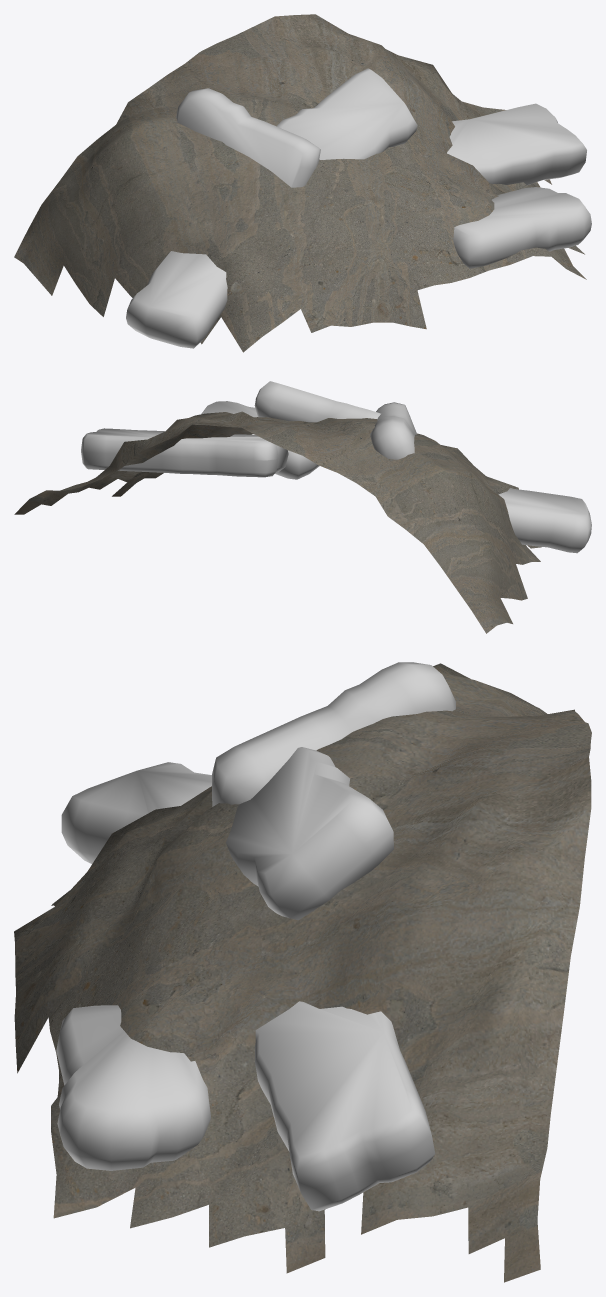
The model's file is SD2_Heap_3.fbx.
The picture shows the model from 3 angles, top to bottom: view 1: azimuth 30°, elevation 25°; view 2: azimuth 150°, elevation 25°; view 3: azimuth 270°, elevation 25°; orthographic projection. The views are drawn at different scales.
Visible parts, largest first — view 1: SD2_heap_3; view 2: SD2_heap_3; view 3: SD2_heap_3.
Part boxes in pixels (x1,y1,x2,y2): SD2_heap_3: (14,14,591,352); SD2_heap_3: (14,381,591,633); SD2_heap_3: (14,662,591,1282).
Bounding box in the file's own units: 155 × 85.84 × 55.43.
